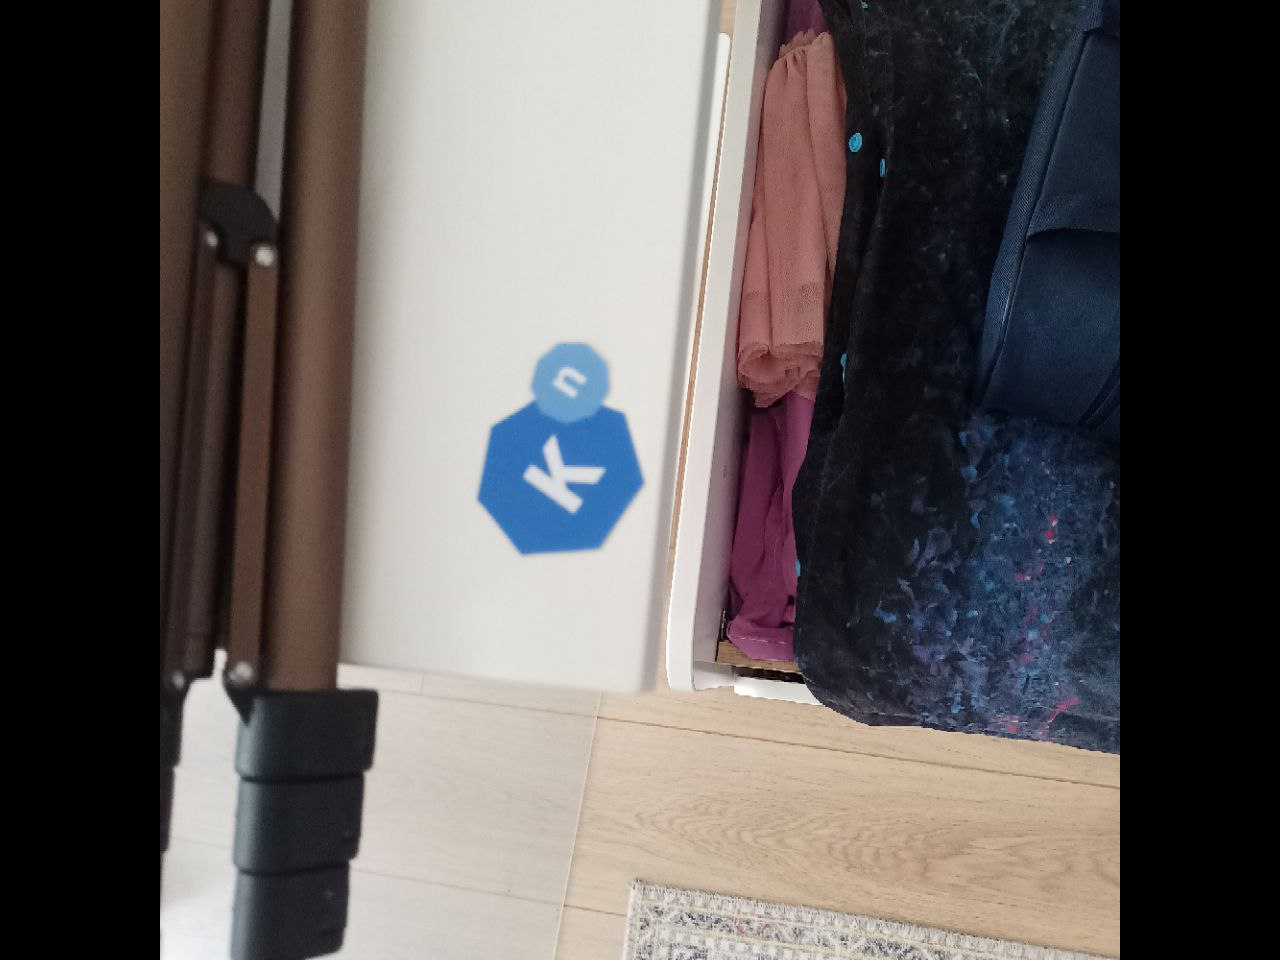knative: (472, 341, 648, 559)
